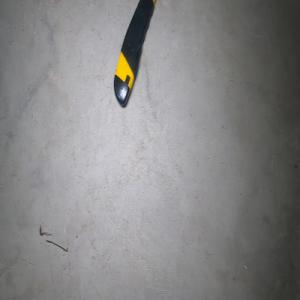Cutter: (113, 0, 157, 107)
